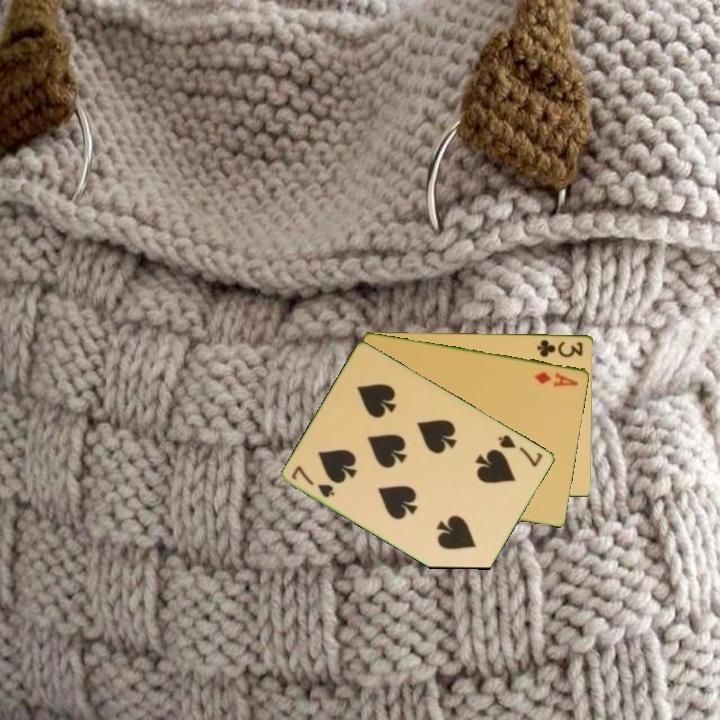3c: (534, 336, 585, 360)
7s: (495, 431, 546, 470), (288, 462, 338, 500)
Ad: (531, 368, 581, 389)
